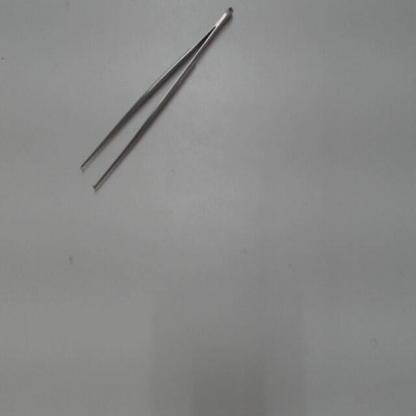Gillies Toothed Dissector: (71, 3, 242, 204)
